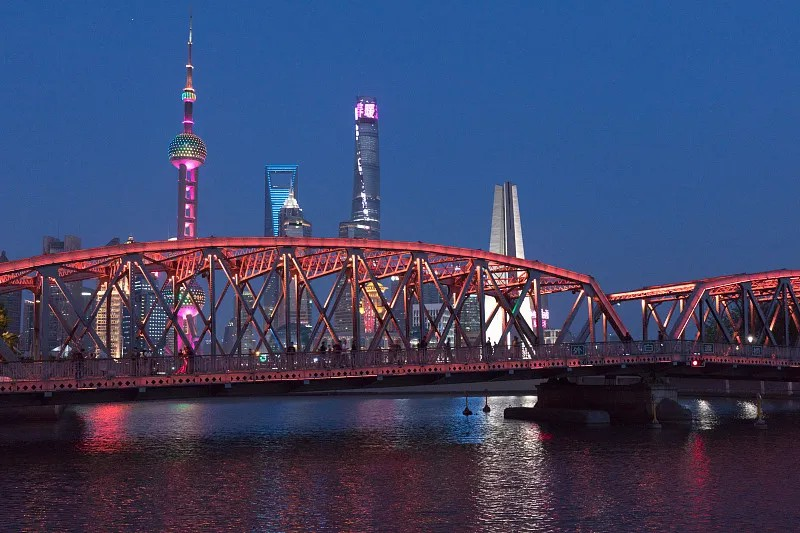Oriental: (167, 12, 207, 353)
